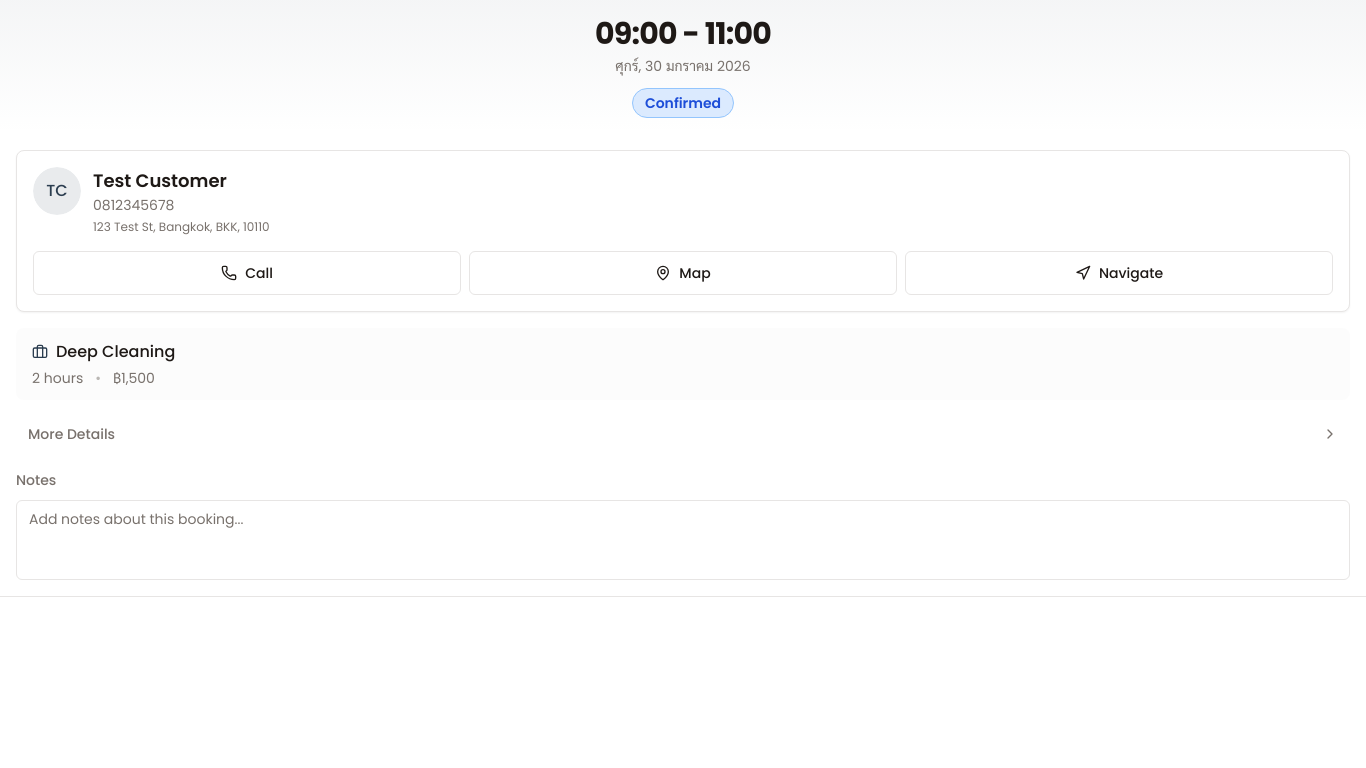
Test: BookingDetailContent › Notes Section › shows Save Notes button when notes are changed
Type "New notes" into the text box with placeholder "Add notes about this booking..." at (683, 540), box top-left (16, 500), bottom-right (1350, 580)
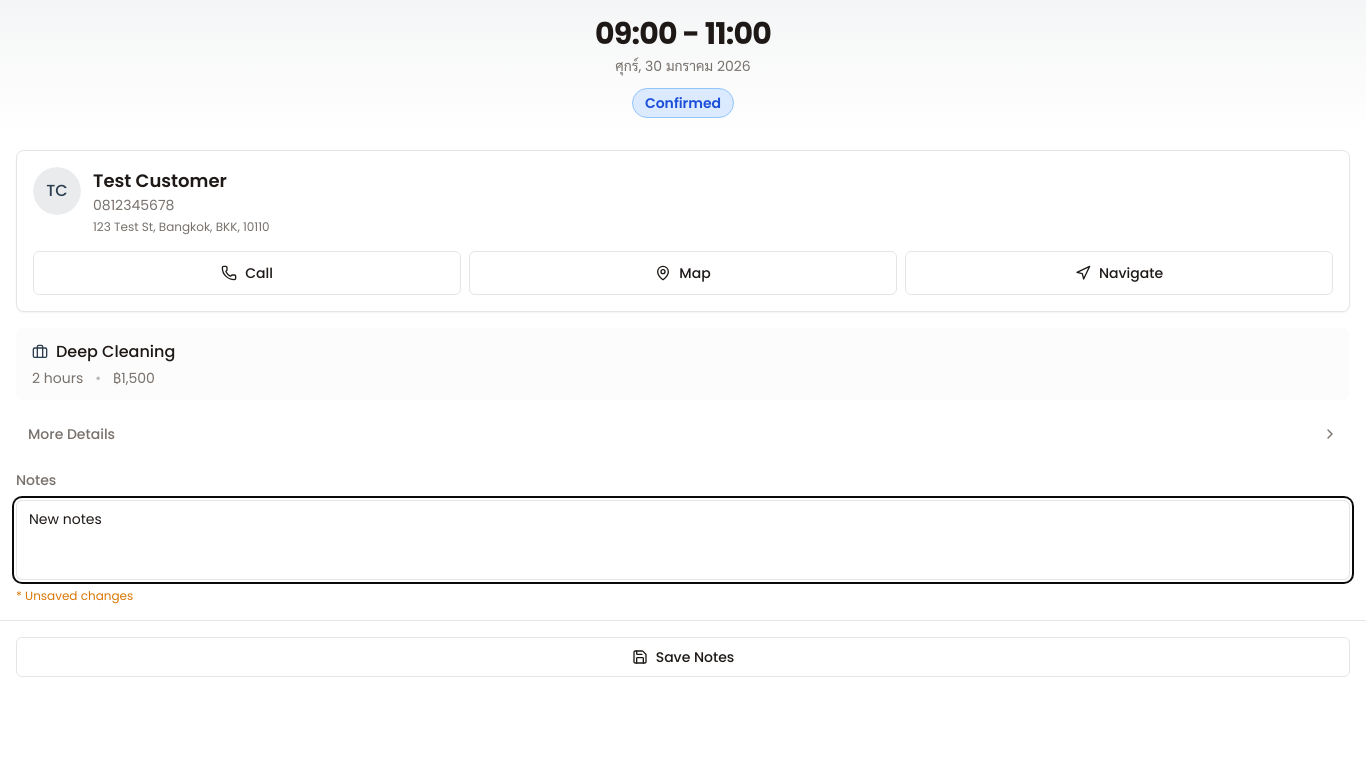
Expected: the button "Save Notes" is shown, top-left (16, 637), bottom-right (1350, 677)
